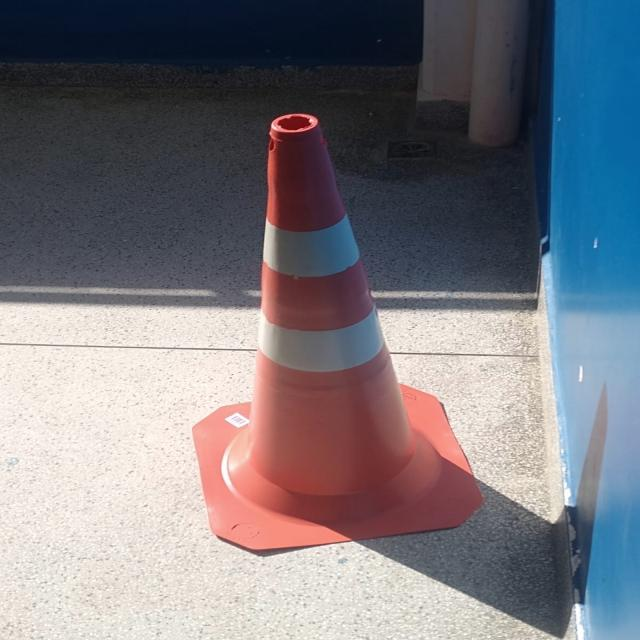cone: (193, 111, 487, 552)
